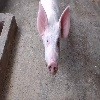heo: (34, 1, 73, 75)
